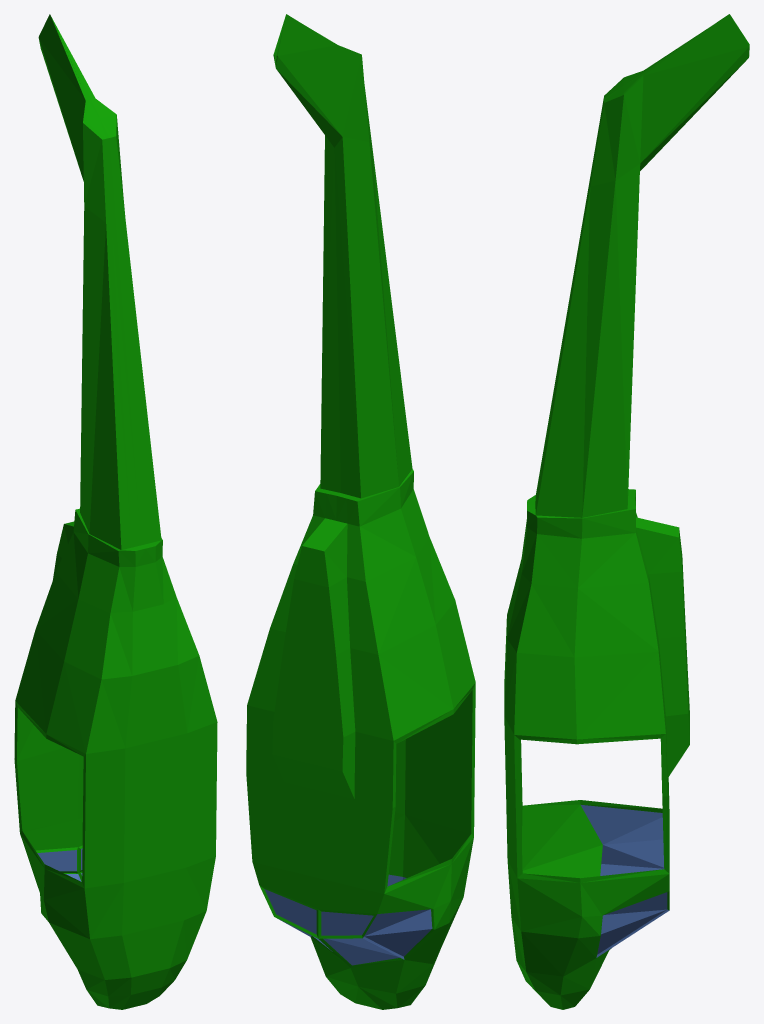
The model's file is enemyChopper1.dae.
The picture shows the model from 3 angles, left to right: view 1: azimuth 30°, elevation 25°; view 2: azimuth 150°, elevation 25°; view 3: azimuth 270°, elevation 25°; orthographic projection. The views are drawn at different scales.
Visible parts, largest first — view 1: Chopper; view 2: Chopper; view 3: Chopper.
Boxes of the visible parts, x1,y1,x2,y2 form: Chopper: (14,14,217,1009); Chopper: (246,14,475,1009); Chopper: (504,14,749,1009).
Bounding box in the file's own units: 1.09 × 1.45 × 6.41.
